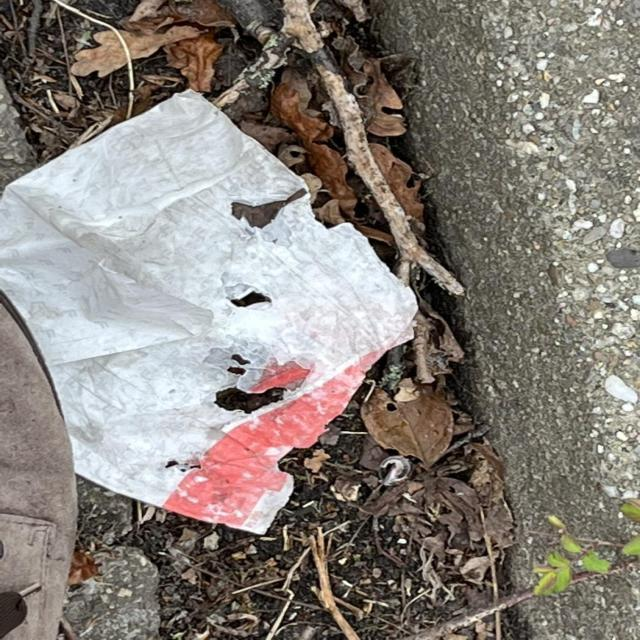Paper: (1, 84, 422, 540)
